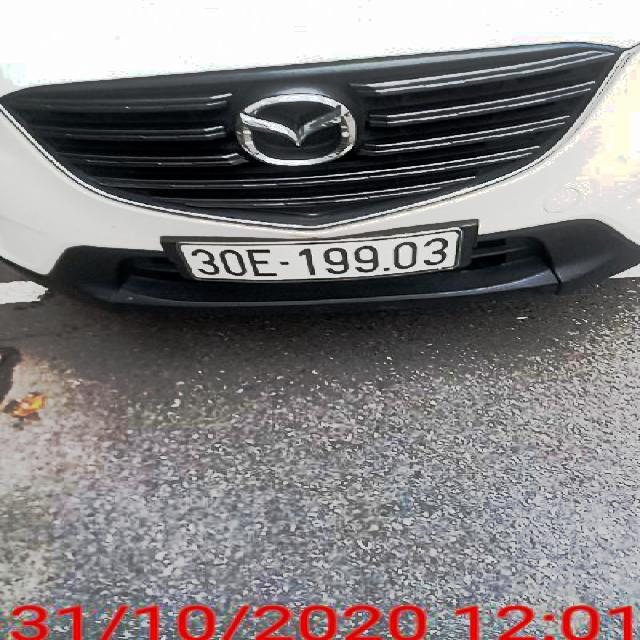license_plate: (182, 232, 463, 282)
